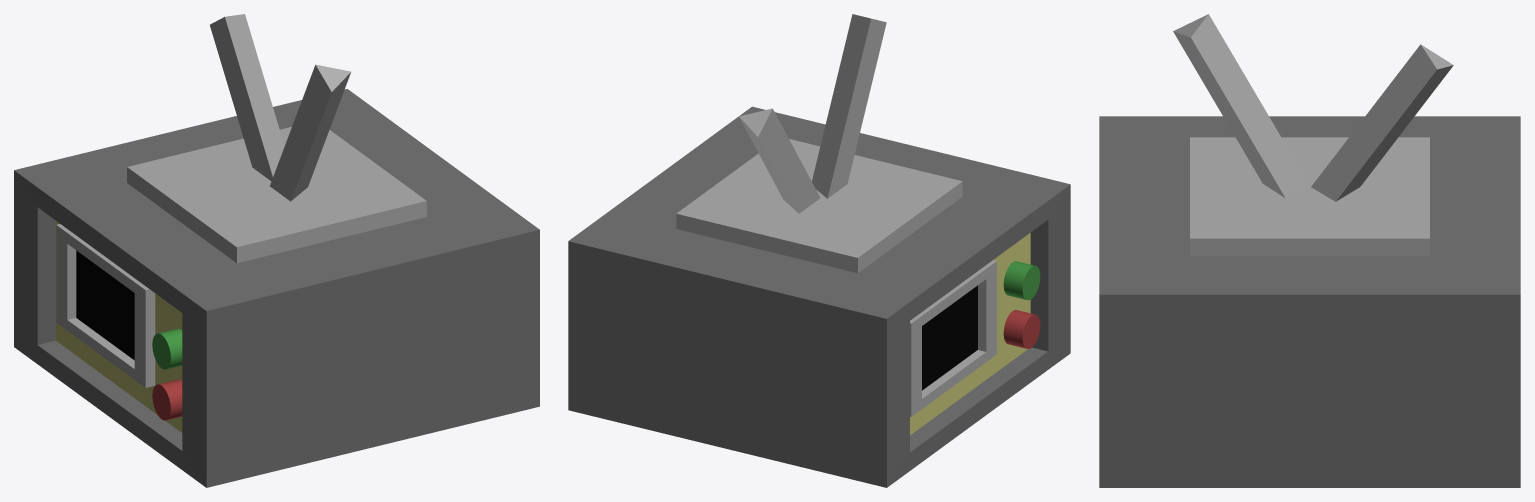
Rendered from Controller Box.fbx.
3 renders of one model, left to right at view 1: azimuth 30°, elevation 25°; view 2: azimuth 150°, elevation 25°; view 3: azimuth 270°, elevation 25°, orthographic. The views are drawn at different scales.
Visible parts, largest first — view 1: pCube1, pasted__pCube1, pasted__pCylinder2, pCylinder2, pasted__pCylinder1, pCylinder1; view 2: pCube1, pasted__pCube1, pCylinder2, pasted__pCylinder2, pCylinder1, pasted__pCylinder1; view 3: pCube1, pCylinder2, pasted__pCylinder2.
Part boxes in pixels (<box>): pCube1: <box>14,89,539,487</box>; pasted__pCube1: <box>56,224,155,387</box>; pasted__pCylinder2: <box>210,14,284,181</box>; pCylinder2: <box>270,64,350,201</box>; pasted__pCylinder1: <box>152,379,182,420</box>; pCylinder1: <box>152,328,182,369</box>; pCube1: <box>568,106,1070,487</box>; pasted__pCube1: <box>910,260,996,416</box>; pCylinder2: <box>812,14,886,198</box>; pasted__pCylinder2: <box>739,108,820,213</box>; pCylinder1: <box>1003,261,1040,300</box>; pasted__pCylinder1: <box>1003,310,1040,348</box>; pCube1: <box>1099,116,1520,487</box>; pCylinder2: <box>1173,14,1308,198</box>; pasted__pCylinder2: <box>1311,44,1453,201</box>.
Size of the model in its own units: 0.5996 by 0.5947 by 0.5962.
